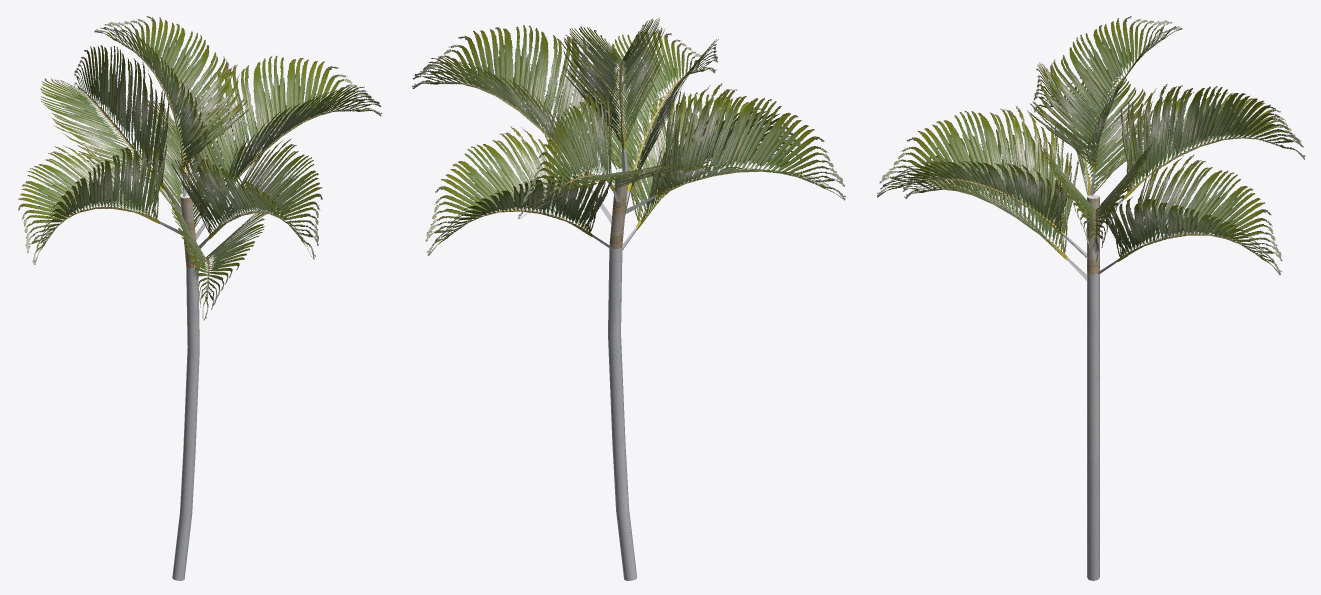
The model's file is Arica.dae.
3 views of the same model, side by side, from view 1: azimuth 30°, elevation 25°; view 2: azimuth 150°, elevation 25°; view 3: azimuth 270°, elevation 25° (orthographic). The views are drawn at different scales.
Visible parts, largest first — view 1: palmleaf_404_half (×14), SketchUp (×2); view 2: palmleaf_404_half (×14), SketchUp (×2); view 3: palmleaf_404_half (×14), SketchUp (×2).
Part boxes in pixels (x1,y1,x2,y2): palmleaf_404_half (×14): (18,16,381,320); SketchUp (×2): (172,196,199,580); palmleaf_404_half (×14): (412,18,845,255); SketchUp (×2): (608,172,636,580); palmleaf_404_half (×14): (877,16,1305,274); SketchUp (×2): (1087,197,1099,580).
Bounding box in the file's own units: 138 × 134 × 188.
